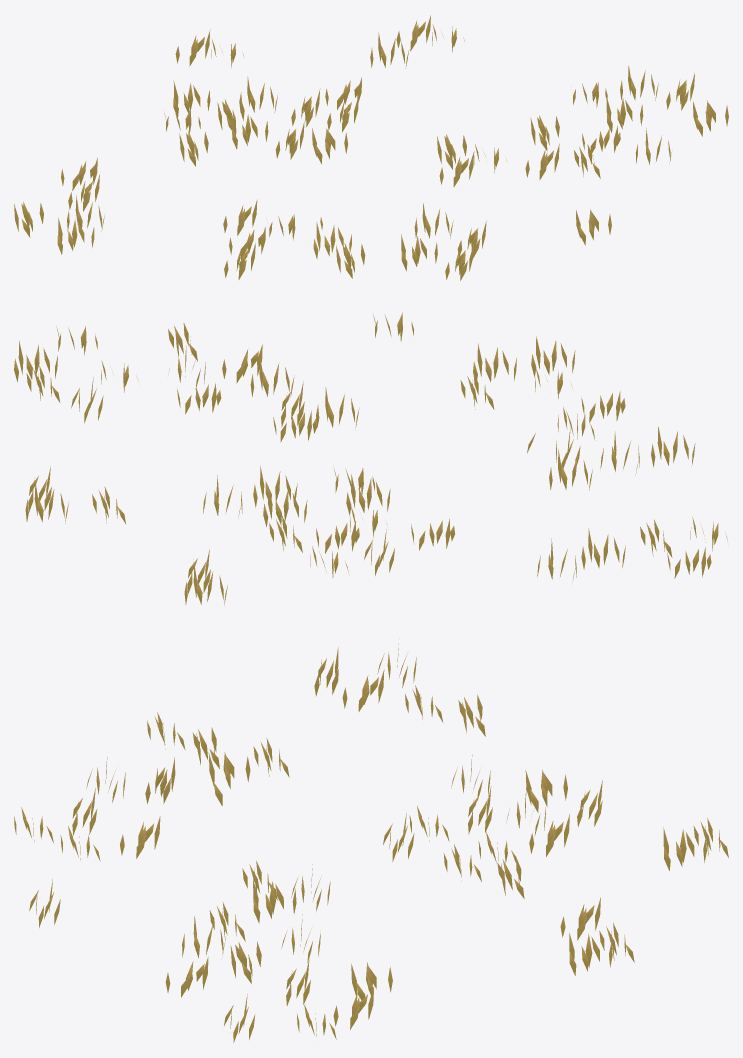
The model's file is plants_un_main_grass_set61_02.gltf.
The picture shows the model from 3 angles, top to bottom: view 1: azimuth 30°, elevation 25°; view 2: azimuth 150°, elevation 25°; view 3: azimuth 270°, elevation 25°; orthographic projection. The views are drawn at different scales.
Parts seen in each view (by area): view 1: plants_un_main_grass_set61_02_mesh_shape:plants_un_main_gras; view 2: plants_un_main_grass_set61_02_mesh_shape:plants_un_main_gras; view 3: plants_un_main_grass_set61_02_mesh_shape:plants_un_main_gras.
Boxes of the visible parts, x1,y1,x2,y2 form: plants_un_main_grass_set61_02_mesh_shape:plants_un_main_gras: (14, 15, 728, 280); plants_un_main_grass_set61_02_mesh_shape:plants_un_main_gras: (14, 312, 727, 605); plants_un_main_grass_set61_02_mesh_shape:plants_un_main_gras: (14, 643, 728, 1042).
Size of what is drawn, in the model's own units: 9.09 by 0.4196 by 7.36.
1 material, 1 textured.
